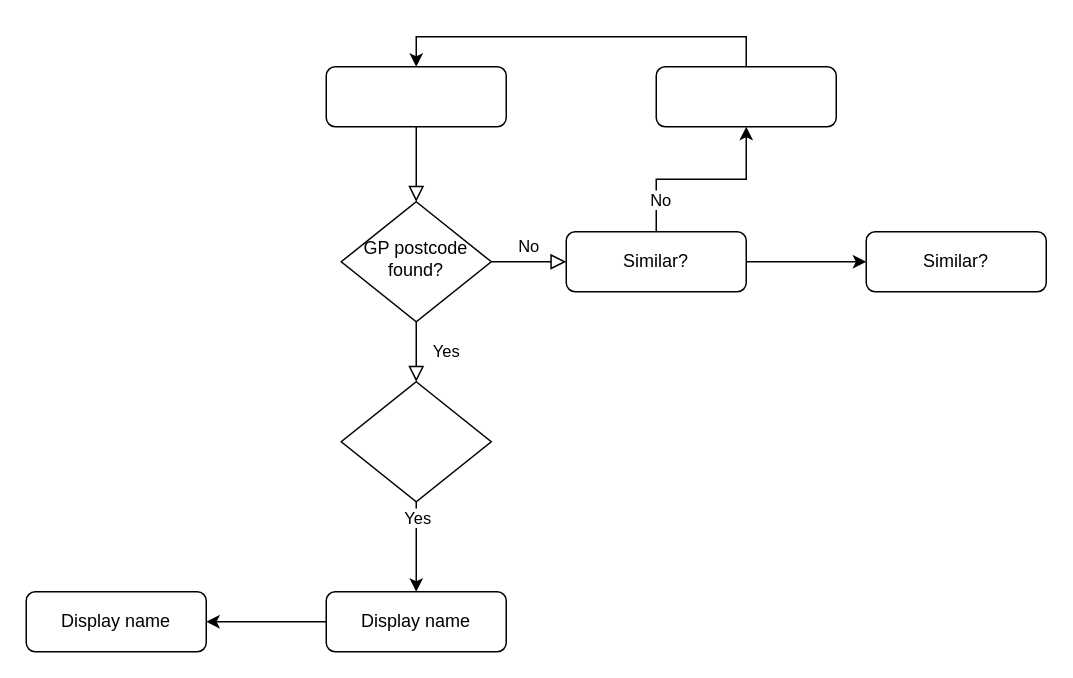
Some shapes in this 1073 by 678 pixel diagram are drawn without their labels. Here are the shapes that lost their labels. From the top down, the box of each, then its label:
(325, 65, 506, 127): User input: GP practice postcode
(655, 65, 836, 127): No matches. Go back to main menu
(340, 380, 491, 502): Correct GP?
